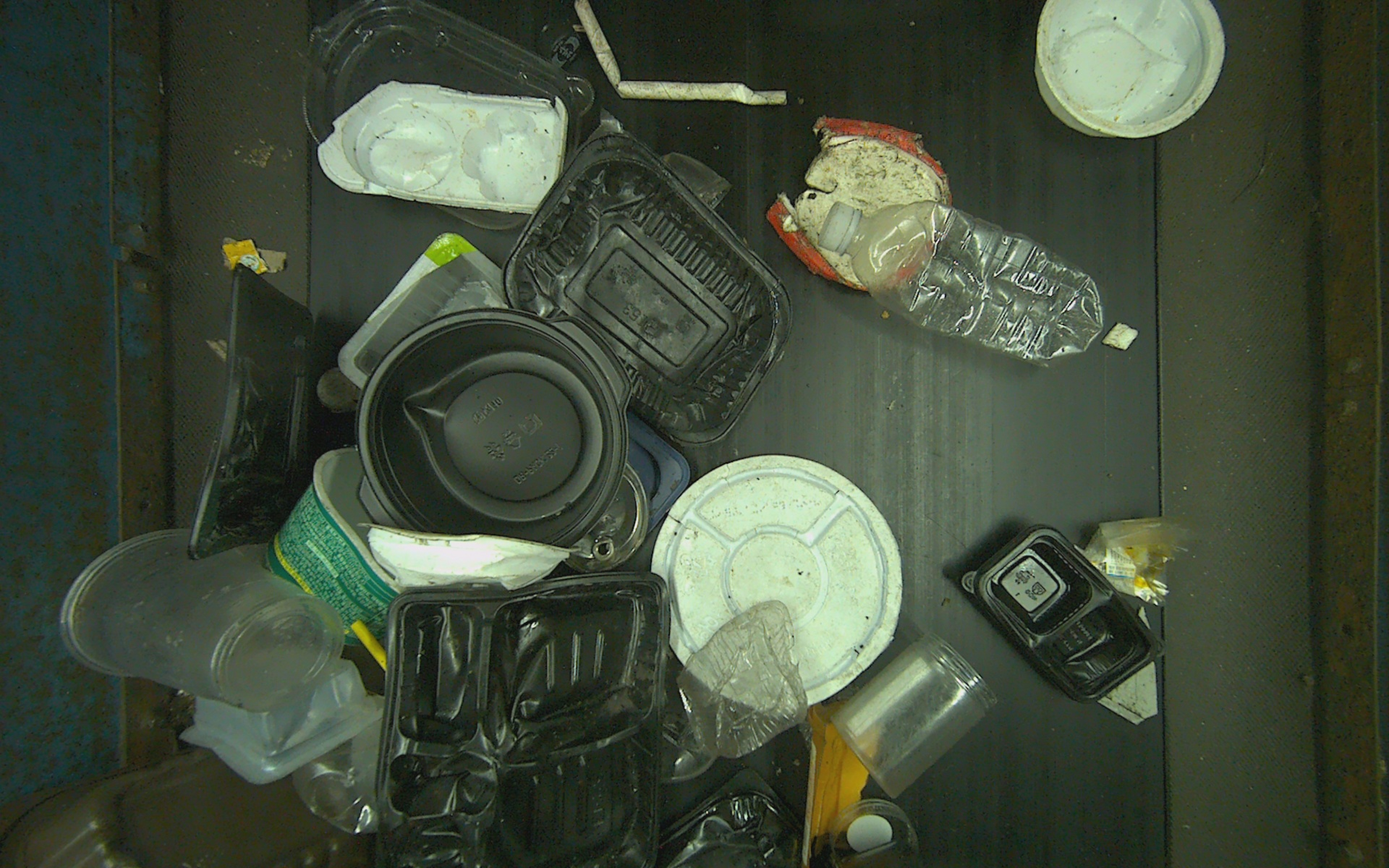PET: (820, 200, 1104, 365)
PET-C: (61, 529, 345, 713), (830, 632, 998, 798), (828, 799, 918, 868)
PP-B: (503, 133, 795, 449), (375, 572, 669, 868), (356, 308, 634, 548), (186, 264, 317, 559), (960, 524, 1165, 705)
PS-W: (650, 454, 904, 707), (317, 80, 568, 216)
